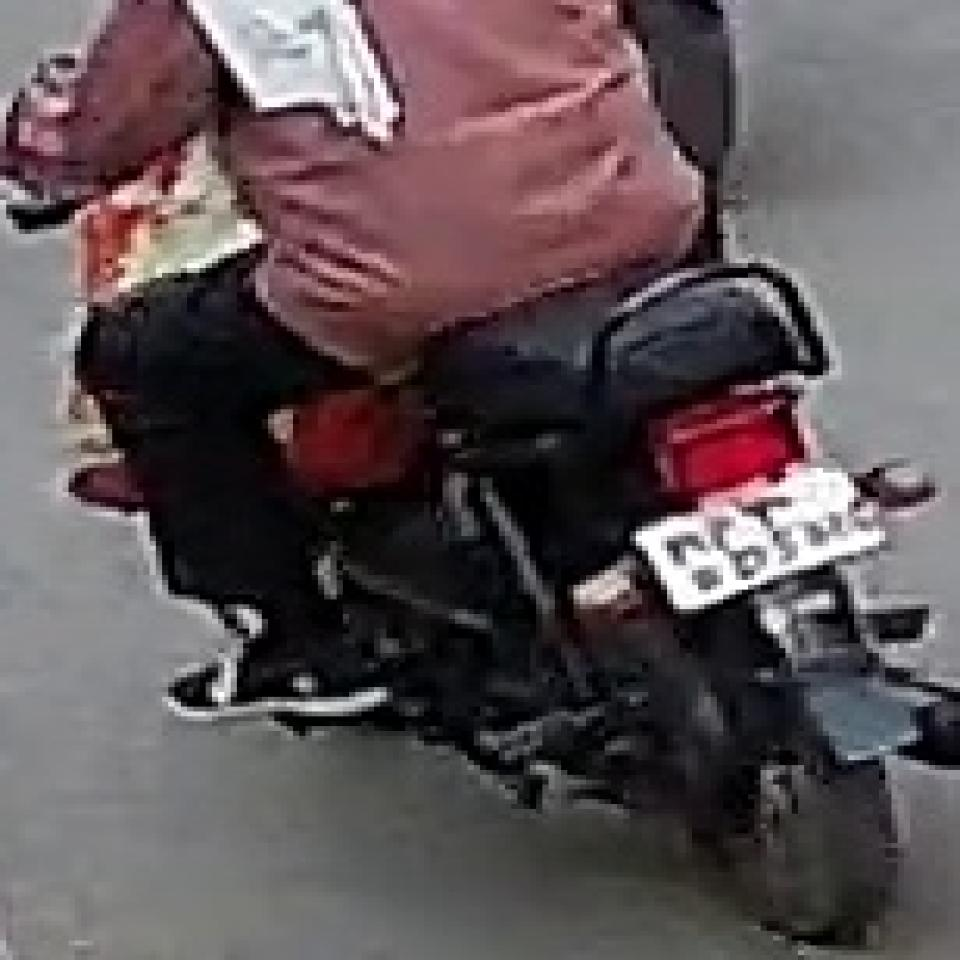tail_light: (656, 384, 810, 496)
